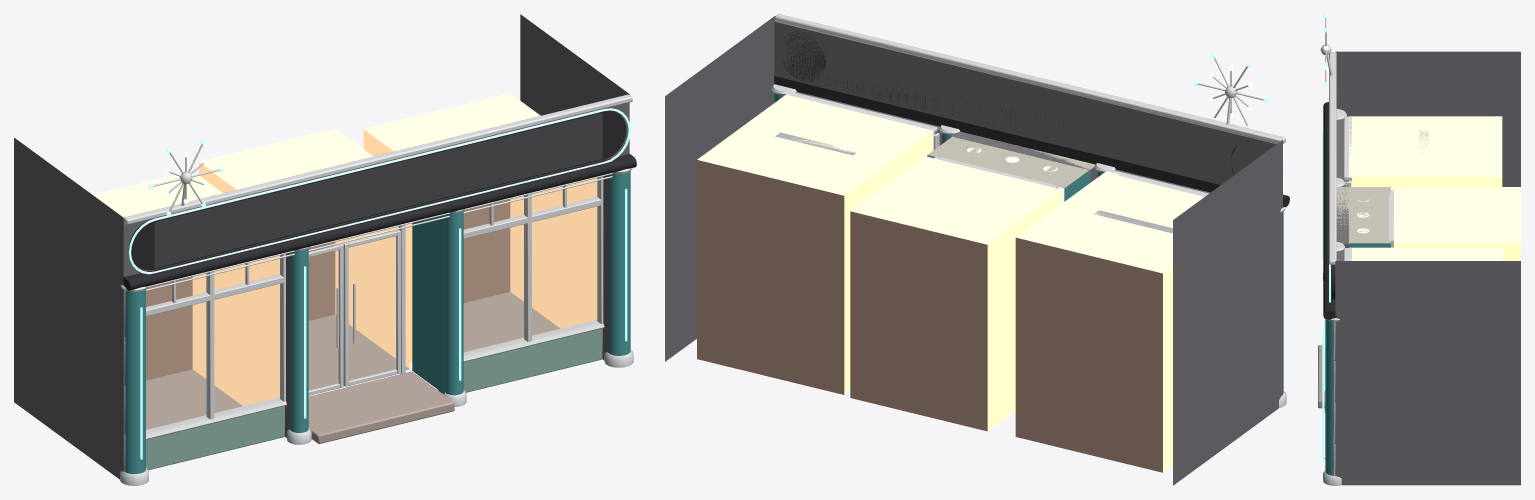
Rendered from retro_inn_8a.glb.
3 views of the same model, side by side, from view 1: azimuth 30°, elevation 25°; view 2: azimuth 150°, elevation 25°; view 3: azimuth 270°, elevation 25° (orthographic). The views are drawn at different scales.
Parts seen in each view (by area): view 1: retro_inn_8a; view 2: retro_inn_8a; view 3: retro_inn_8a.
Part boxes in pixels (x1,y1,x2,y2): retro_inn_8a: (14,14,636,485); retro_inn_8a: (665,14,1289,485); retro_inn_8a: (1318,14,1520,485).
Bounding box in the file's own units: 8.06 × 4.96 × 3.28.
